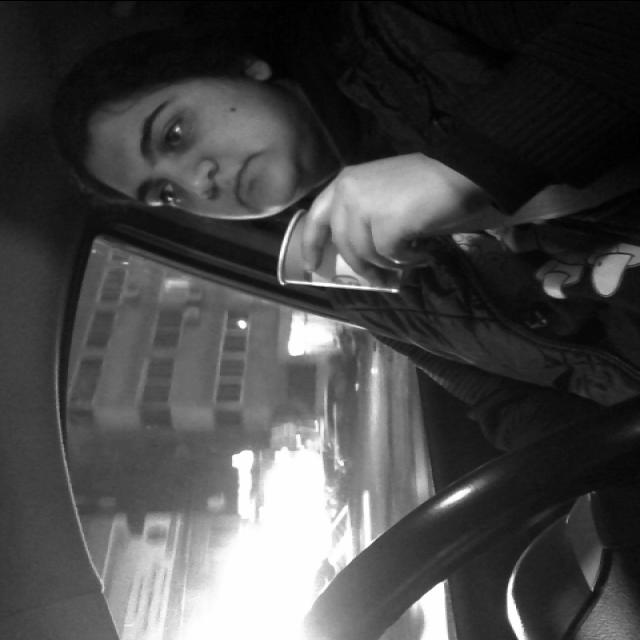drinking: (273, 204, 415, 296)
